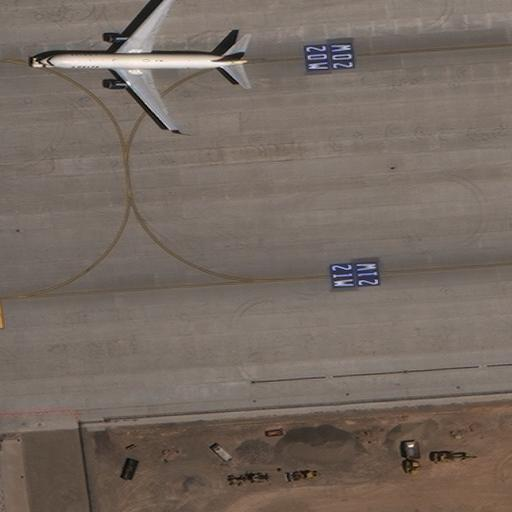Large Civil Transport: (37, 0, 249, 129)
